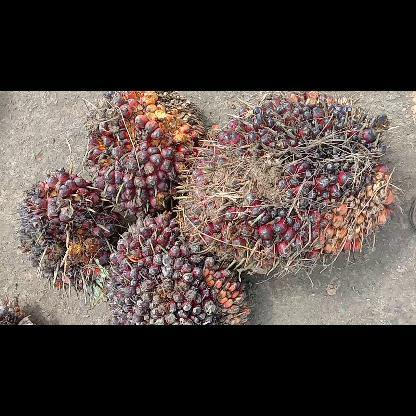Kurang masak: (173, 91, 402, 283), (102, 208, 256, 324)
TBS masak: (80, 92, 206, 220), (12, 165, 124, 303)
